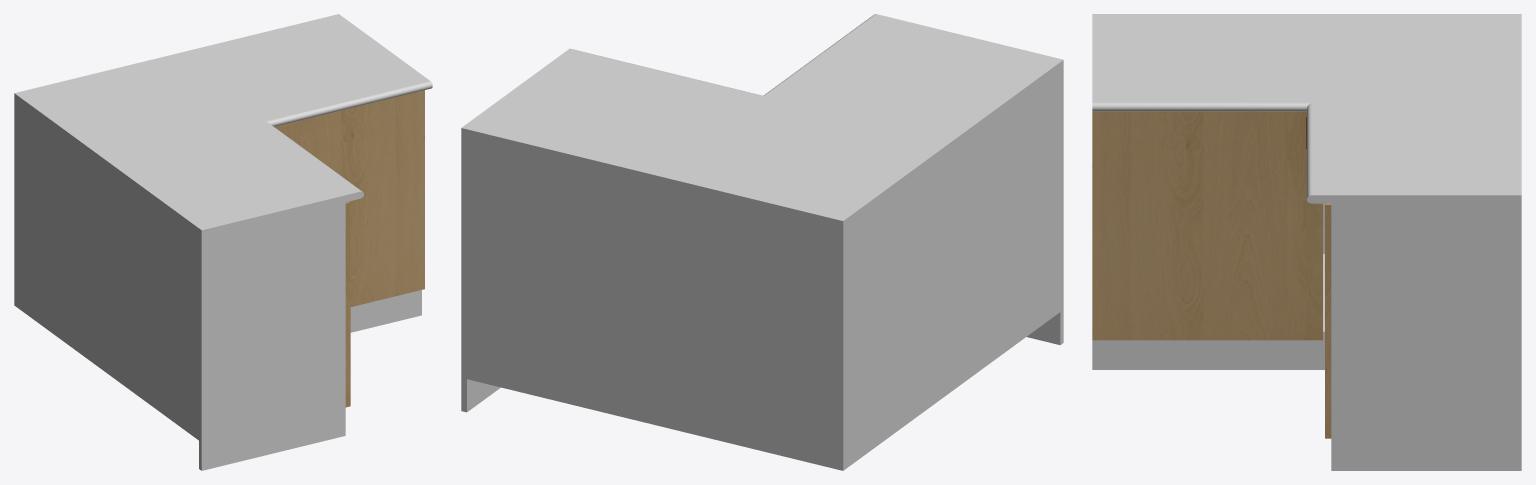
The model's file is corner-1200.glb.
The picture shows the model from 3 angles, left to right: view 1: azimuth 30°, elevation 25°; view 2: azimuth 150°, elevation 25°; view 3: azimuth 270°, elevation 25°; orthographic projection. The views are drawn at different scales.
Parts seen in each view (by area): view 1: Mesh_0_group, Mesh_5_group, Mesh_1_group, Mesh_2_group; view 2: Mesh_0_group, Mesh_5_group, Mesh_2_group; view 3: Mesh_5_group, Mesh_1_group, Mesh_0_group, Mesh_2_group.
Boxes of the visible parts, left/top/right/bottom form: Mesh_0_group: left=14, top=100, right=345, bottom=442; Mesh_5_group: left=14, top=14, right=432, bottom=237; Mesh_1_group: left=274, top=90, right=424, bottom=407; Mesh_2_group: left=199, top=290, right=421, bottom=470; Mesh_0_group: left=461, top=68, right=1063, bottom=470; Mesh_5_group: left=461, top=14, right=1063, bottom=229; Mesh_2_group: left=461, top=310, right=1063, bottom=412; Mesh_5_group: left=1092, top=14, right=1521, bottom=203; Mesh_1_group: left=1092, top=111, right=1331, bottom=438; Mesh_0_group: left=1323, top=203, right=1521, bottom=438; Mesh_2_group: left=1092, top=337, right=1521, bottom=470.
Bounding box in the file's own units: 1.2 × 0.85 × 1.2.
3 materials, 2 textured.
